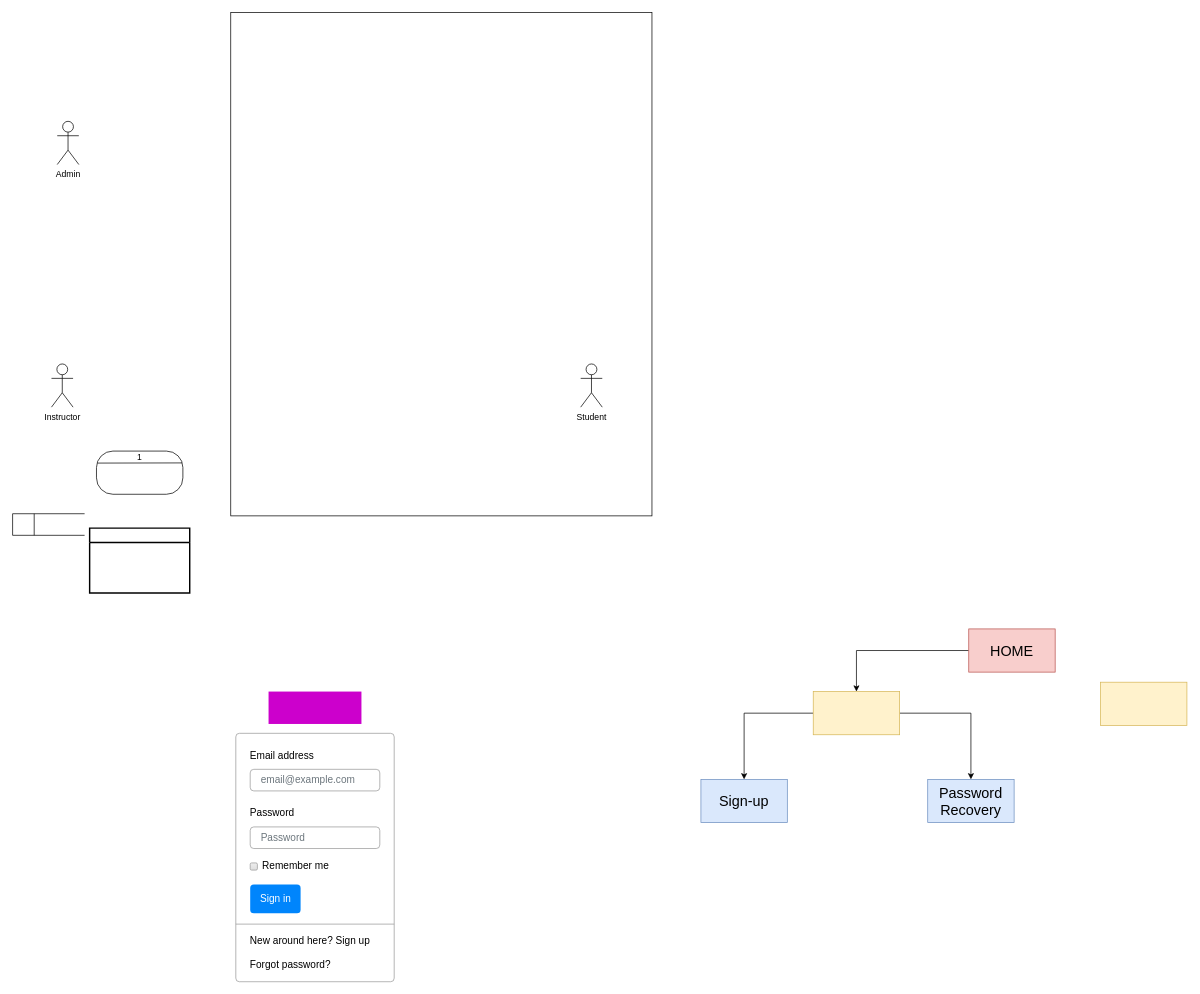
Image size: 1200x994. Some labels were removed from this diagram. Each missing label, with the centre of its shape:
"D1 Name" belongs at (x=48, y=524).
"Forum" belongs at (x=1143, y=703).
"Login" belongs at (x=856, y=713).
"LOGO" belongs at (x=314, y=707).
